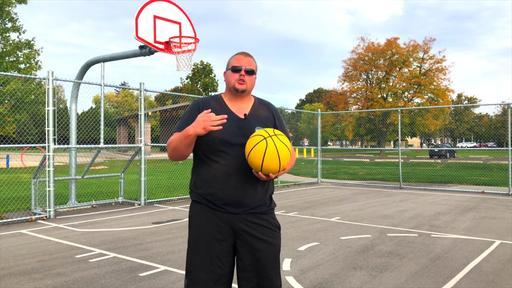ball: (244, 126, 293, 176)
human: (167, 50, 296, 288)
rim: (167, 36, 200, 72)
